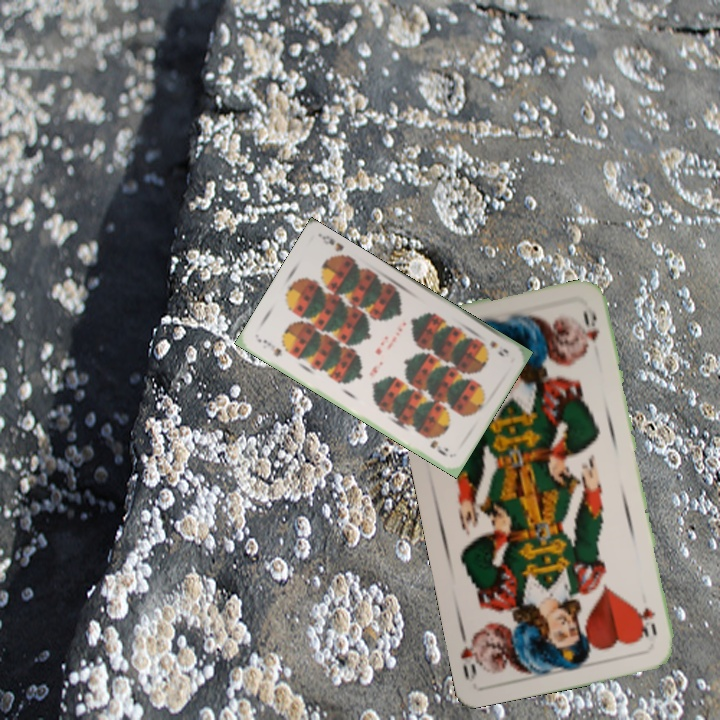HO: (636, 603, 660, 640)
S9: (254, 335, 284, 359), (486, 336, 511, 359)
